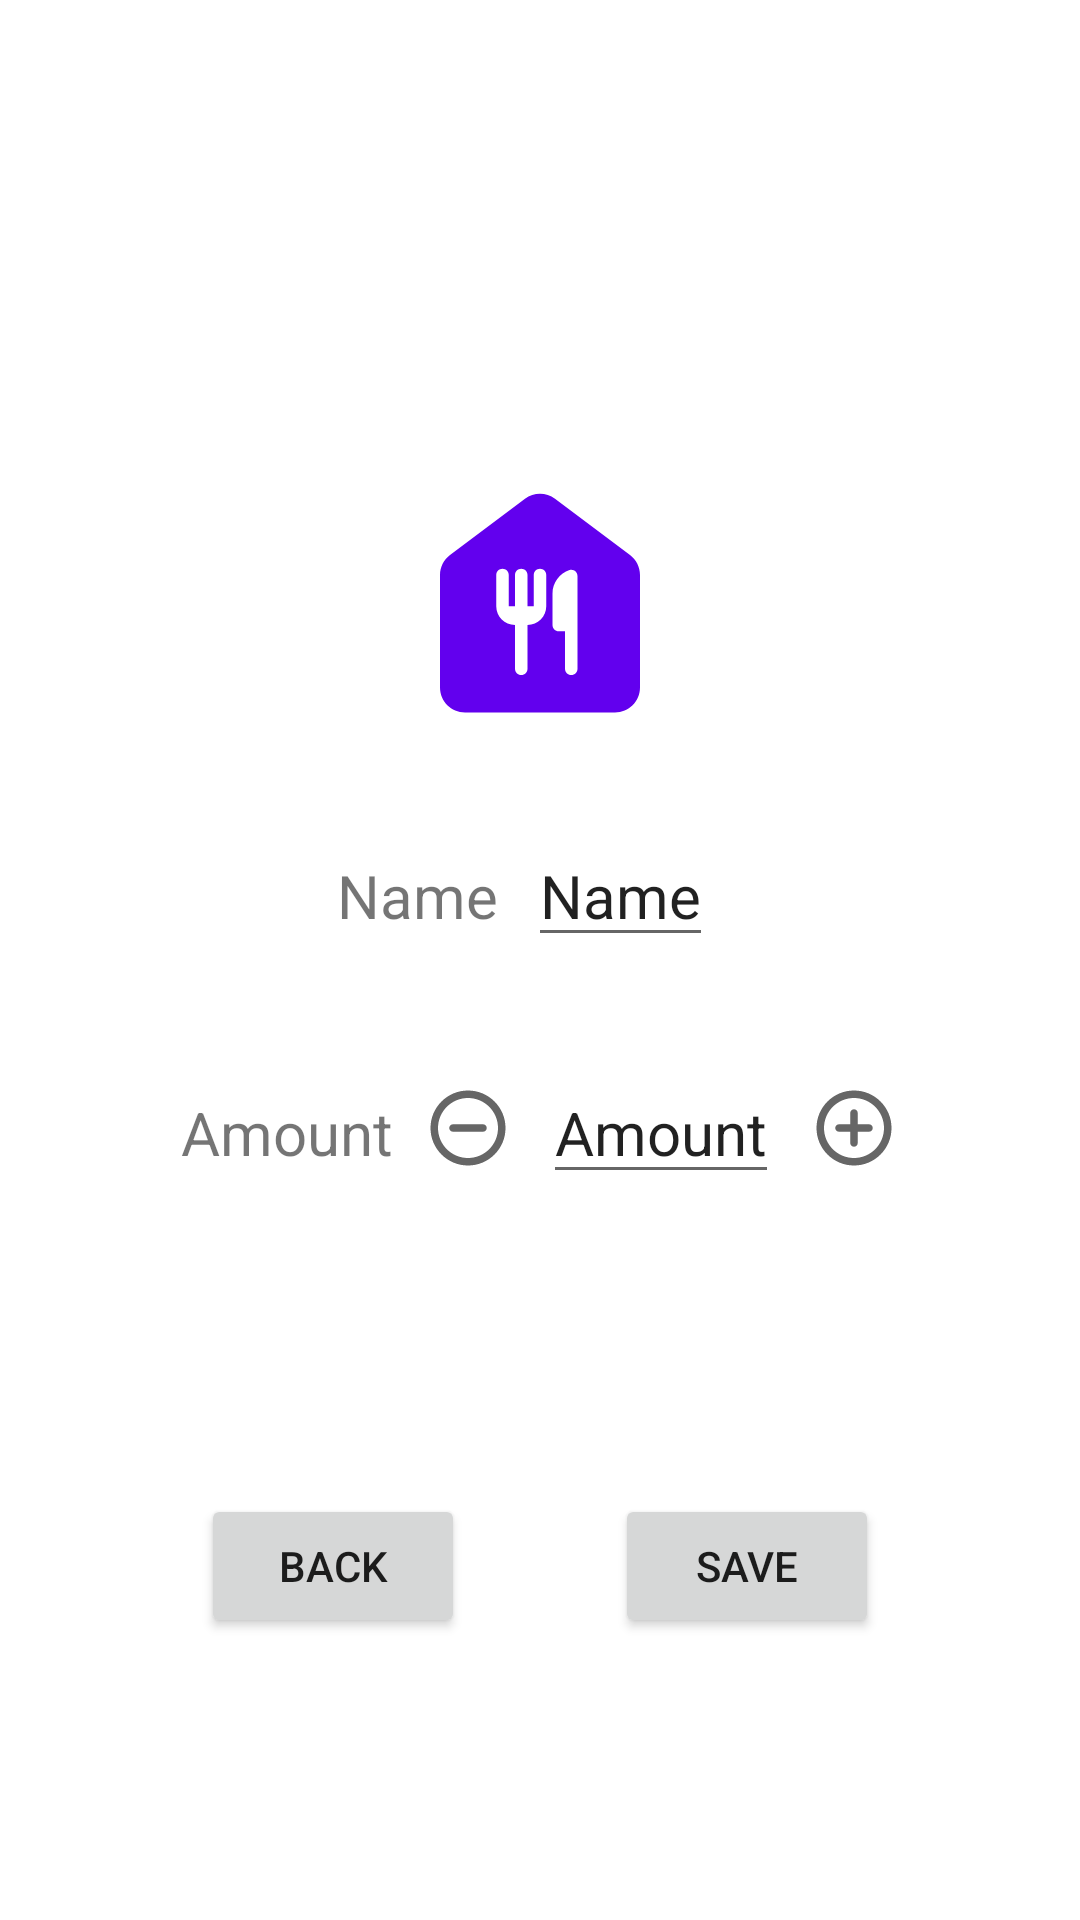

Locate icon controls on the screen. Image size 1080 × 1920, boxes as (x1, y1, x2, y2).
add product: (816, 1090, 892, 1166)
remove product: (430, 1090, 506, 1166)
